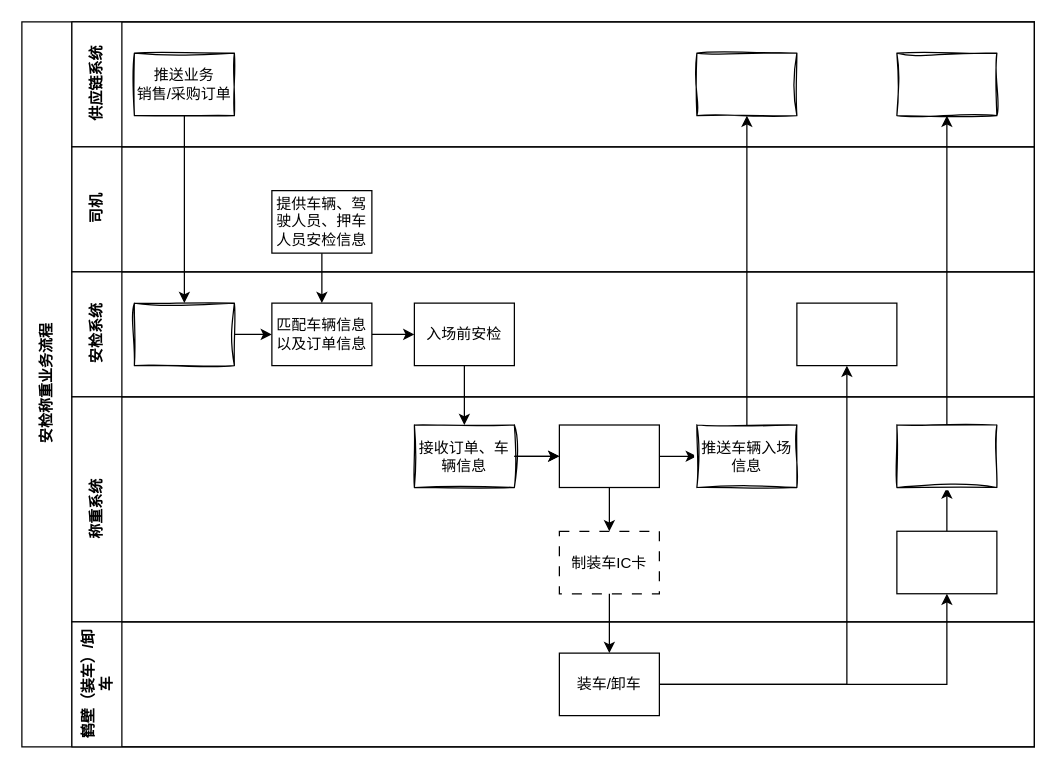
Some shapes in this 1056 by 769 pixel diagram are drawn without their labels. The shapes that lost their labels are listed below. From the top down, each one's centre as x and y in pixels, then its label:
At (x=746, y=84): "标记订单 车辆入场".
At (x=946, y=84): "记录订单装车数据".
At (x=183, y=334): "接收订单信息".
At (x=846, y=334): "充装中、后安检".
At (x=608, y=456): "入场称重".
At (x=946, y=456): "推送装车信息".
At (x=946, y=562): "出厂称重".
